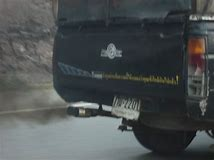smoke: (1, 100, 69, 130)
